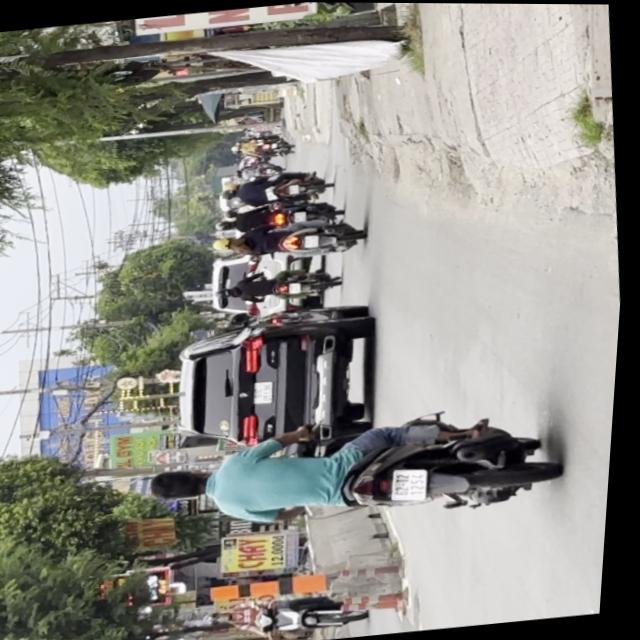licenseplate: (128, 395, 573, 548)
motorcyclist: (151, 465, 220, 506)
nohelmet: (393, 468, 433, 502)
